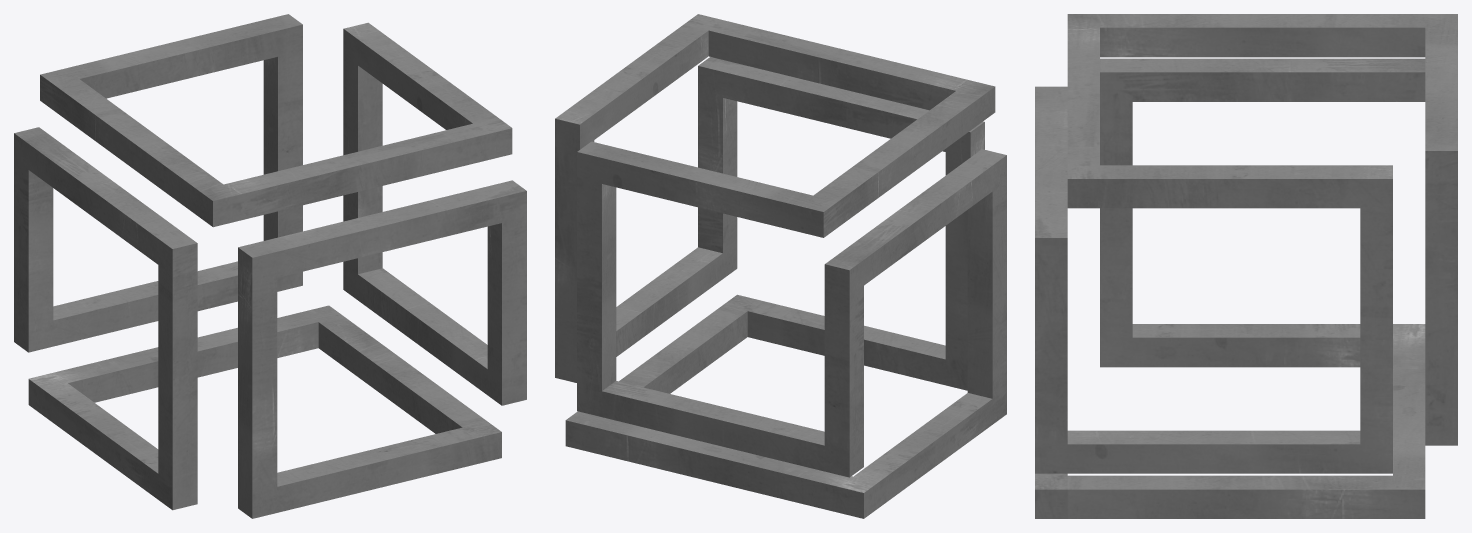
The model's file is CubeShape.glb.
3 renders of one model, left to right at view 1: azimuth 30°, elevation 25°; view 2: azimuth 150°, elevation 25°; view 3: azimuth 270°, elevation 25°, orthographic. The views are drawn at different scales.
Parts seen in each view (by area): view 1: Cube; view 2: Cube; view 3: Cube.
Part boxes in pixels (bbox=[...]): Cube: bbox=[14, 14, 526, 518]; Cube: bbox=[555, 14, 1006, 518]; Cube: bbox=[1035, 14, 1457, 518].
Bounding box in the file's own units: 0.9662 × 0.8888 × 0.9629.
1 material, 1 textured.
